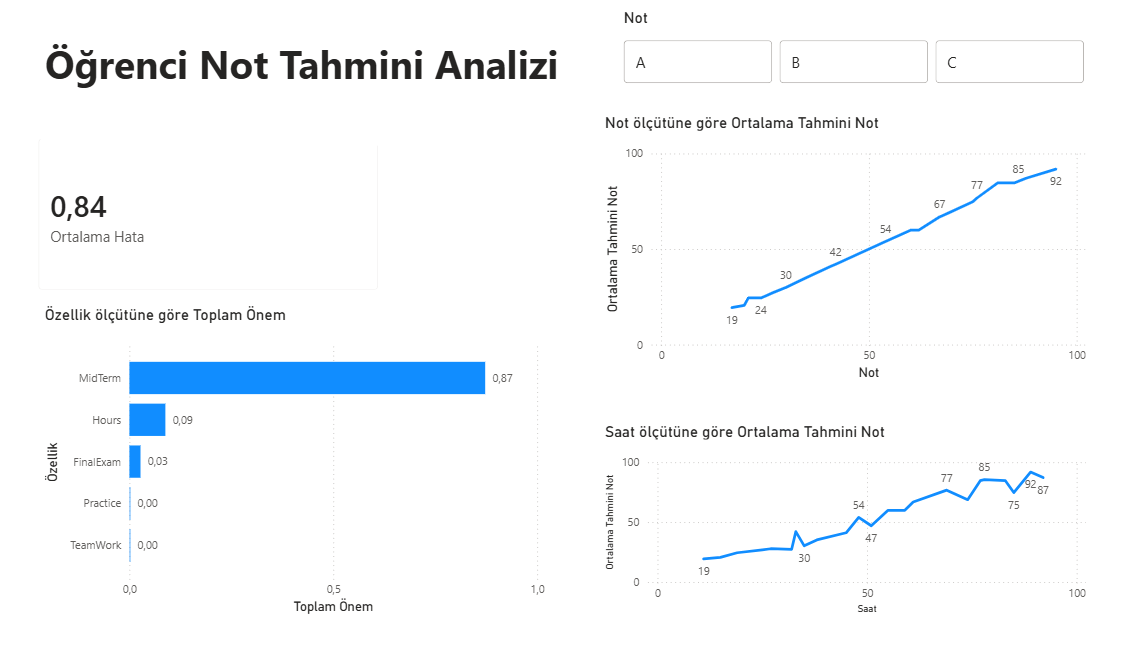

This screenshot's page, from the dashboard's own definition file:
{"tool":"powerbi","page":{"name":"1. sayfa","canvas":[1280,720],"ordinal":0},"visuals":[{"type":"cardVisual","fields":{"Data":["Avg(not_ve_tahminler.Hata_miktarı)"]},"box":[32.9,144.1,407.5,200.3],"z":0},{"type":"barChart","fields":{"Category":["özellik_önemi.Özellik"],"Y":["Sum(özellik_önemi.Önem)"]},"box":[52.1,344.4,558.5,343.1],"z":1},{"type":"lineChart","title":"Not ölçütüne göre Ortalama Tahmini Not","fields":{"Category":["not_ve_tahminler.Scores"],"Y":["Avg(not_ve_tahminler.Tahmini_skor)"]},"box":[666.9,133.1,537.9,297.8],"z":2},{"type":"textbox","box":[52.1,43.9,587.3,124.9],"z":4},{"type":"lineChart","title":"Saat ölçütüne göre Ortalama Tahmini Not","fields":{"Category":["not_ve_tahminler.Hours"],"Y":["Avg(not_ve_tahminler.Tahmini_skor)"]},"box":[666.9,472,537.9,215.4],"z":5},{"type":"advancedSlicerVisual","title":"Not","fields":{"Values":["not_ve_tahminler.Grade"]},"box":[687.5,17.8,517.3,87.8],"z":6}]}

Visuals, with their boxes in screenshot pixels (x1, y1, x2, y2), scaled from the page's 1280x720 canvas onto the 1148x646 screenshot:
cardVisual - Avg(not_ve_tahminler.Hata_miktarı): [left=30, top=129, right=395, bottom=309]
barChart - özellik_önemi.Özellik x Sum(özellik_önemi.Önem): [left=47, top=309, right=548, bottom=617]
"Not ölçütüne göre Ortalama Tahmini Not" lineChart: [left=598, top=119, right=1081, bottom=387]
textbox: [left=47, top=39, right=573, bottom=151]
"Saat ölçütüne göre Ortalama Tahmini Not" lineChart: [left=598, top=423, right=1081, bottom=617]
"Not" advancedSlicerVisual: [left=617, top=16, right=1081, bottom=95]
